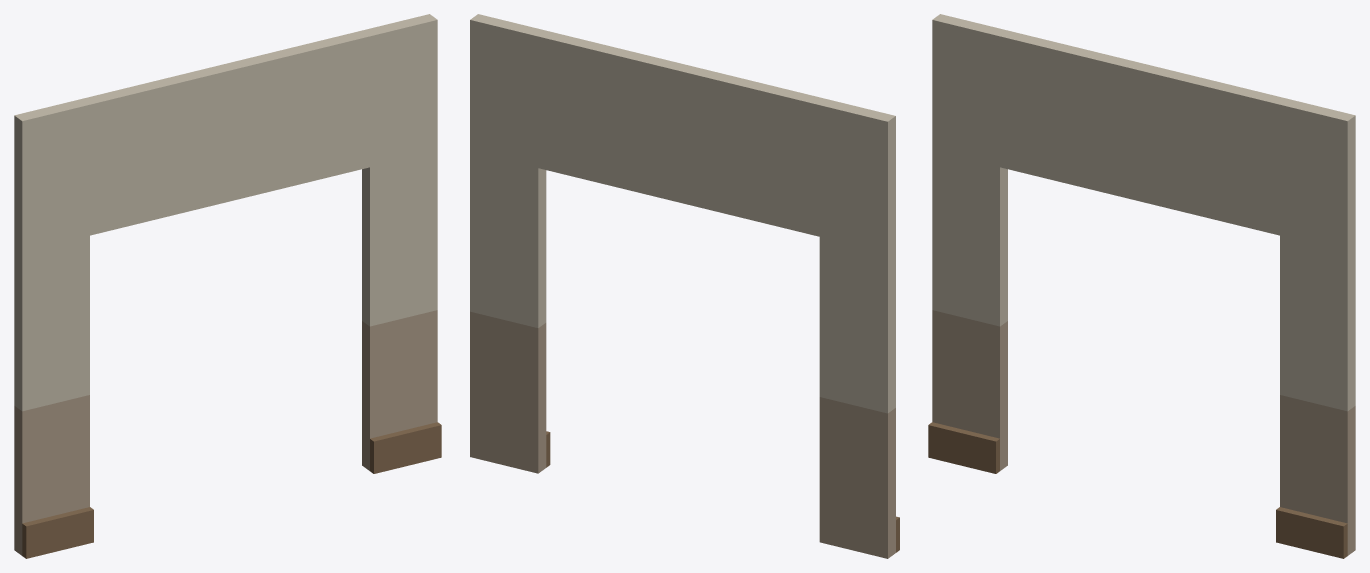
The model's file is Mesh_WallBaseboard2Colors_A4.fbx.
3 renders of one model, left to right at view 1: azimuth 30°, elevation 25°; view 2: azimuth 150°, elevation 25°; view 3: azimuth 330°, elevation 25°, orthographic.
Parts seen in each view (by area): view 1: Mesh_WallBaseboard2Colors_A4; view 2: Mesh_WallBaseboard2Colors_A4; view 3: Mesh_WallBaseboard2Colors_A4.
Part boxes in pixels (<box>): Mesh_WallBaseboard2Colors_A4: <box>14,14,441,558</box>; Mesh_WallBaseboard2Colors_A4: <box>470,14,899,558</box>; Mesh_WallBaseboard2Colors_A4: <box>928,14,1355,558</box>.
Bounding box in the file's own units: 3 × 3 × 0.15.
